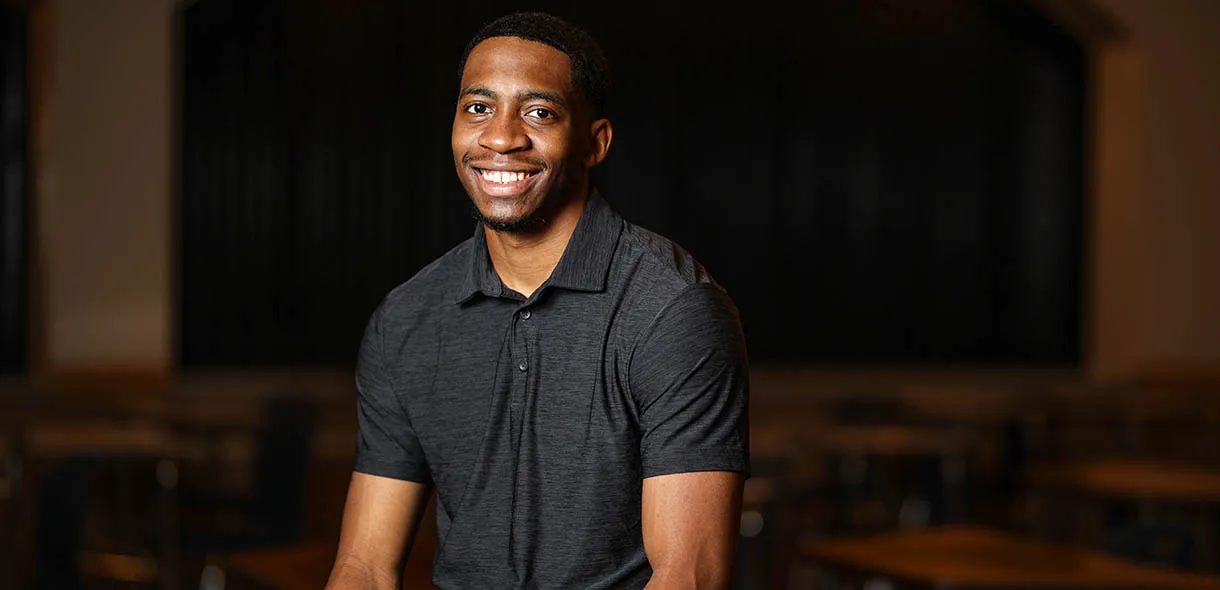person: (326, 20, 775, 590)
